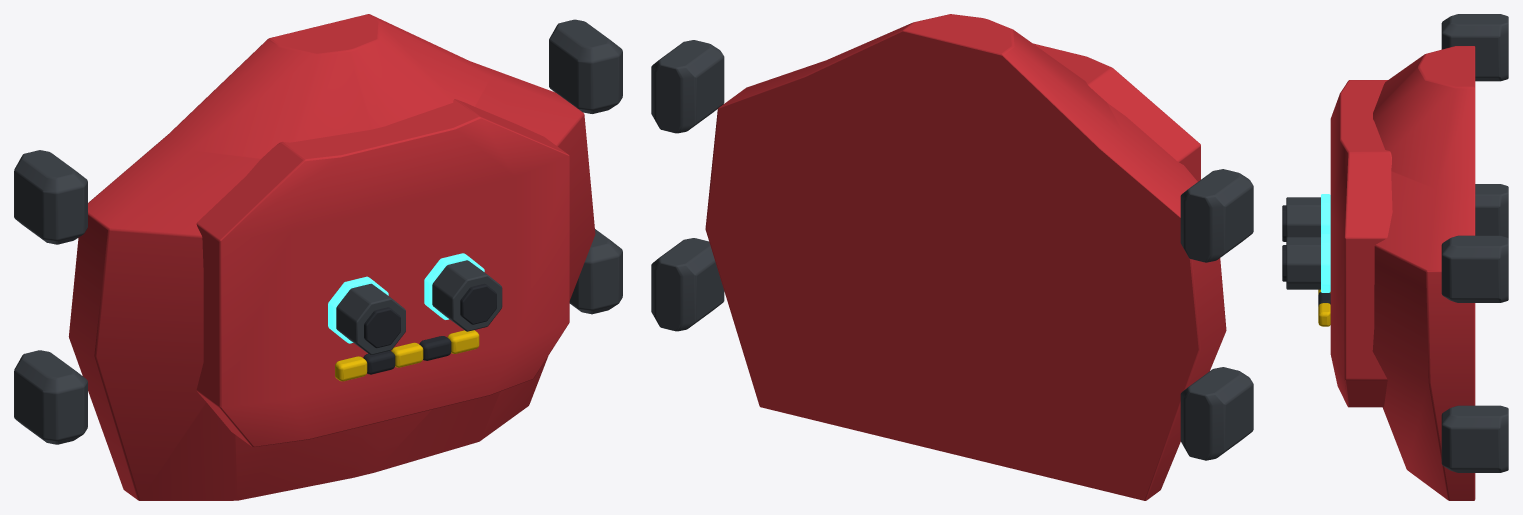
The model's file is ShoulderBack_Set04_Ripjaw.fbx.
3 renders of one model, left to right at view 1: azimuth 30°, elevation 25°; view 2: azimuth 150°, elevation 25°; view 3: azimuth 270°, elevation 25°, orthographic. The views are drawn at different scales.
Visible parts, largest first — view 1: ShoulderBack_Set04_Ripjaw; view 2: ShoulderBack_Set04_Ripjaw; view 3: ShoulderBack_Set04_Ripjaw.
Boxes of the visible parts, bbox=[...] form: ShoulderBack_Set04_Ripjaw: bbox=[14, 14, 622, 500]; ShoulderBack_Set04_Ripjaw: bbox=[651, 14, 1253, 500]; ShoulderBack_Set04_Ripjaw: bbox=[1282, 14, 1508, 500].
Size of the model in its own units: 0.51 by 0.35 by 0.2028.
